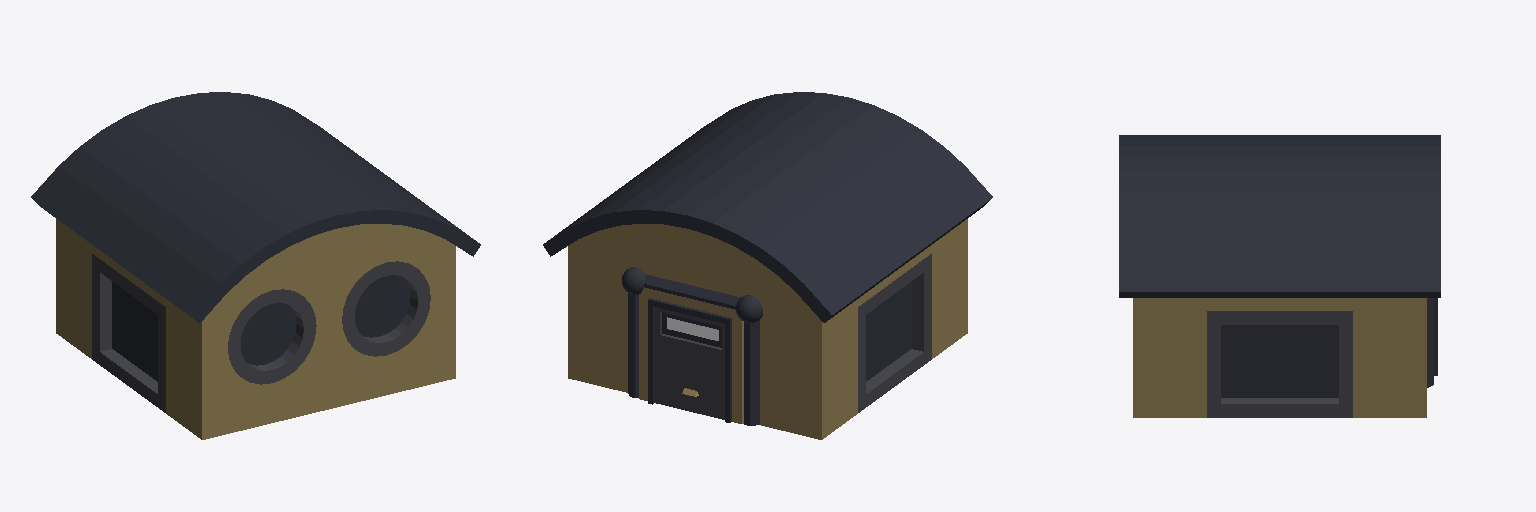
The model's file is Garage1.obj.
The picture shows the model from 3 angles: view 1: azimuth 30°, elevation 25°; view 2: azimuth 150°, elevation 25°; view 3: azimuth 270°, elevation 25°; orthographic projection.
Parts seen in each view (by area): view 1: diesel_cabin_round; view 2: diesel_cabin_round, doorway_wideGarage, arch_horizontal, sphere; view 3: diesel_cabin_round, arch_horizontal.
Boxes of the visible parts, x1,y1,x2,y2 form: diesel_cabin_round: [31, 92, 480, 439]; diesel_cabin_round: [543, 92, 992, 439]; doorway_wideGarage: [639, 287, 743, 423]; arch_horizontal: [628, 274, 759, 425]; sphere: [622, 267, 762, 322]; diesel_cabin_round: [1119, 135, 1440, 417]; arch_horizontal: [1427, 298, 1433, 387].
Size of the model in its own units: 1.14 by 0.75 by 1.1.